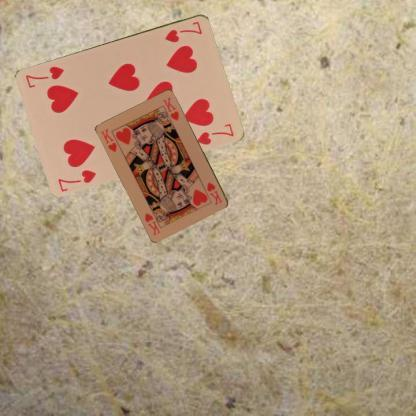7h: (162, 18, 204, 44), (56, 166, 98, 192)
Kh: (99, 126, 119, 153), (204, 180, 224, 206)
